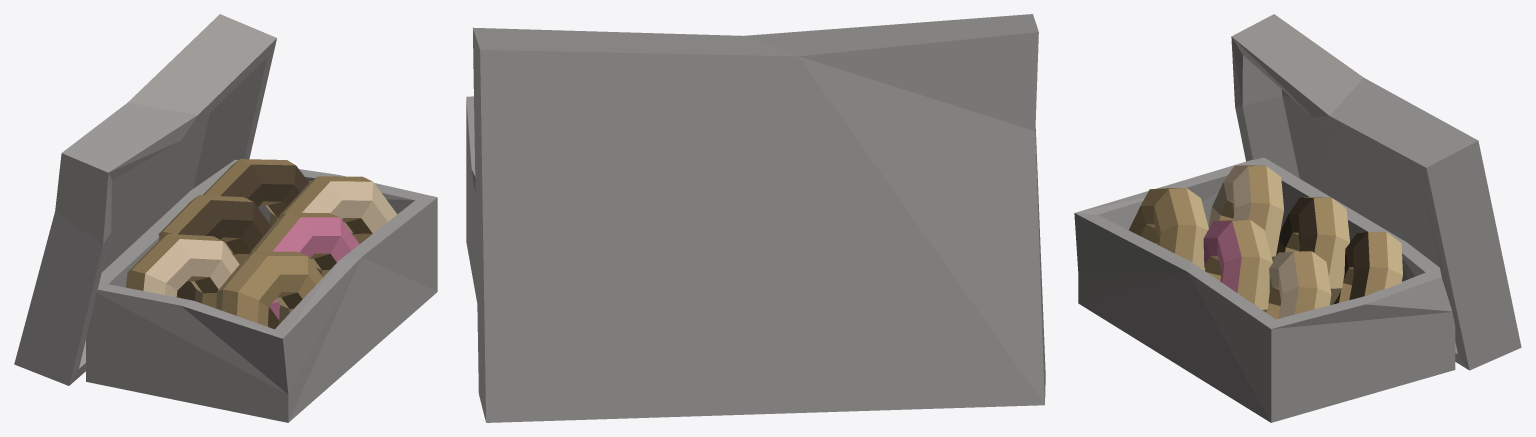
The picture shows the model from 3 angles, left to right: view 1: azimuth 30°, elevation 25°; view 2: azimuth 150°, elevation 25°; view 3: azimuth 270°, elevation 25°; orthographic projection. The views are drawn at different scales.
Parts seen in each view (by area): view 1: huitugou_2200_2911; view 2: huitugou_2200_2911; view 3: huitugou_2200_2911.
Boxes of the visible parts, x1,y1,x2,y2 form: huitugou_2200_2911: (14,14,437,422); huitugou_2200_2911: (466,14,1045,422); huitugou_2200_2911: (1074,14,1521,422).
Bounding box in the file's own units: 85.53 × 46.75 × 83.33.
